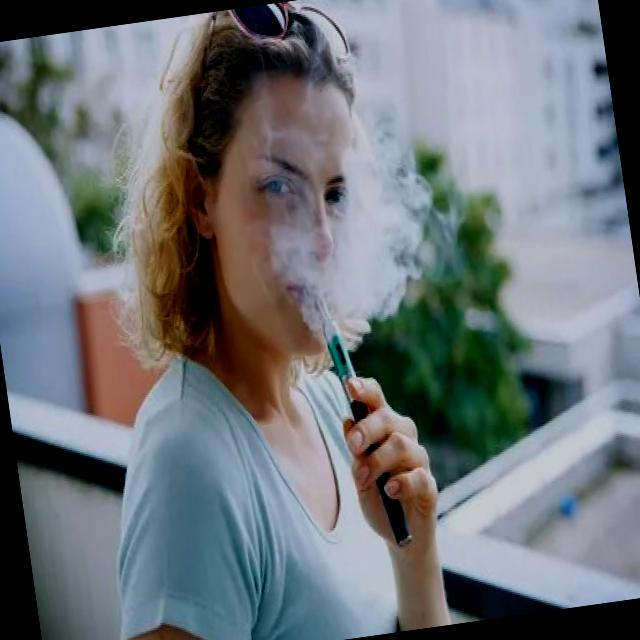cigarette: (308, 280, 417, 568)
